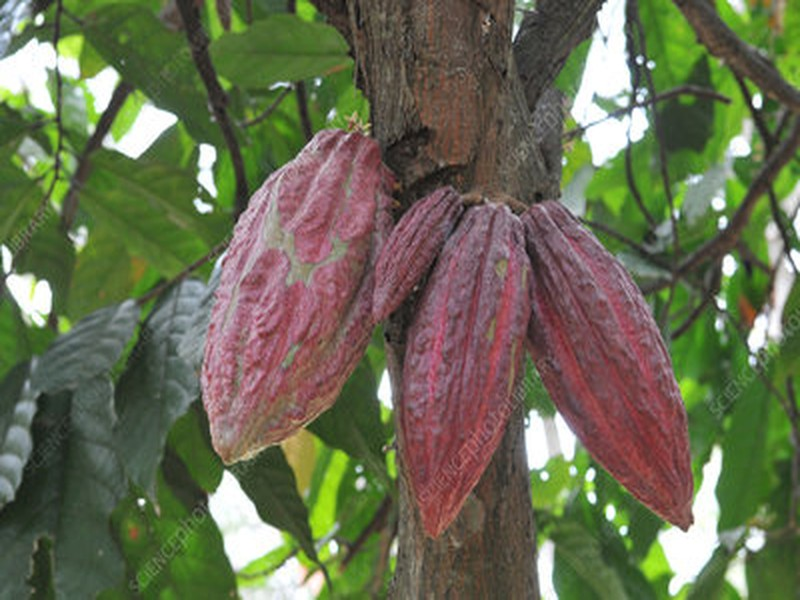Cacaopod: (201, 128, 396, 463)
